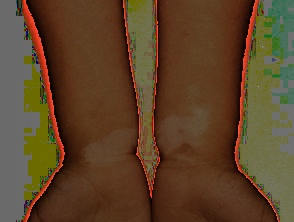vitiligo: (134, 87, 234, 184), (66, 111, 139, 177)
